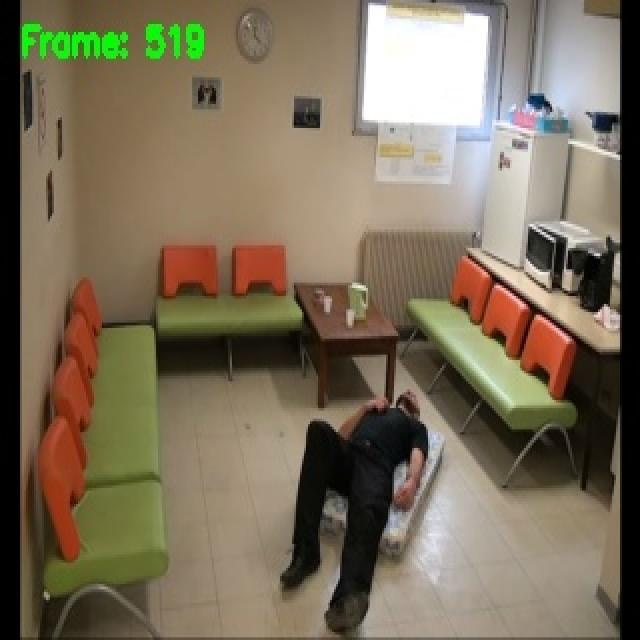Fall-Detected: (284, 388, 430, 634)
